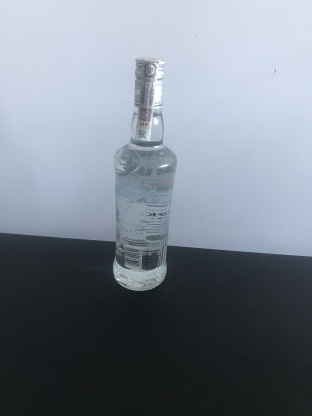nakretka: (131, 53, 168, 111)
